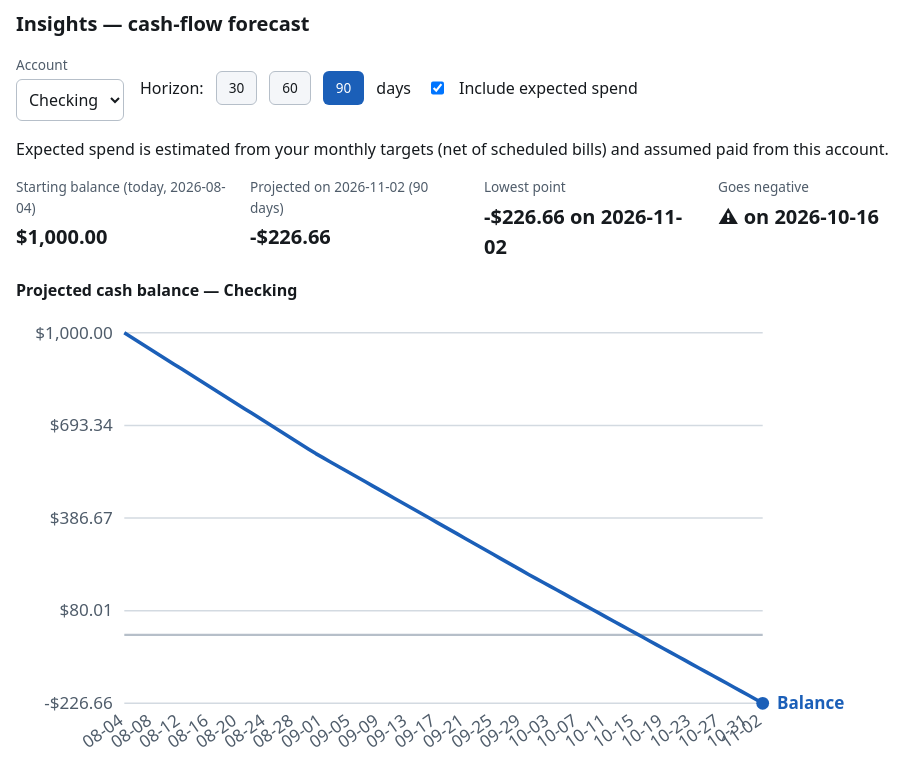
ForecastView (FEAT-013) › the expected-spend toggle folds targets in (default on) and off shows the flat scheduled-only floor
This screenshot has width=905, height=764.
// Toggle OFF → scheduled-only, and with no rules that's a flat projection (no events).
Click the checkbox labelled "Include expected spend": (438, 88) [431, 72, 444, 104]
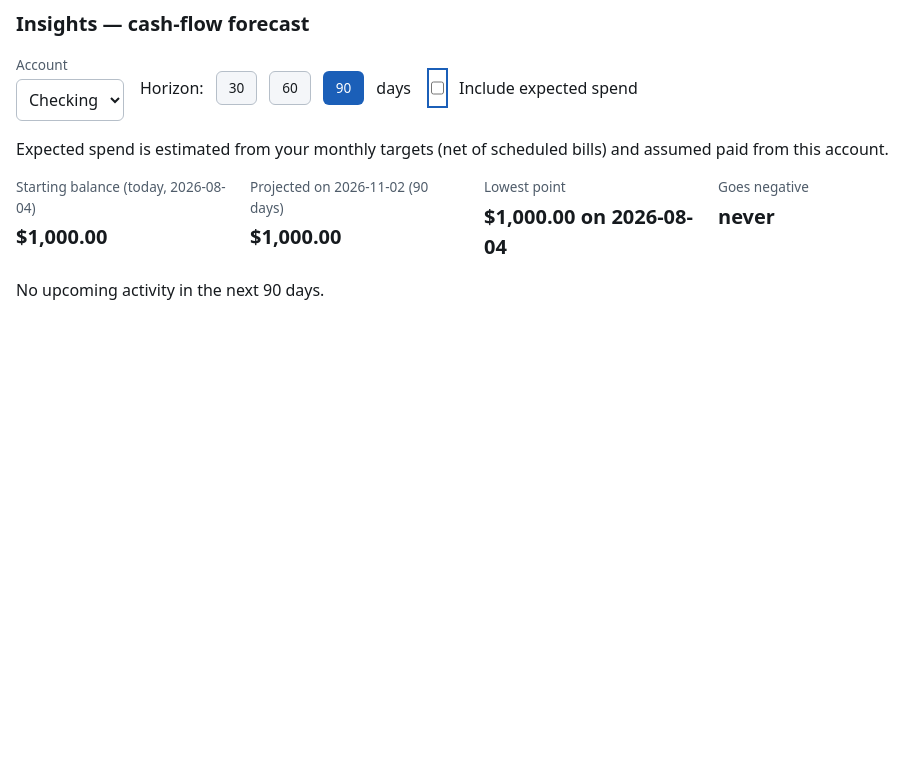
Expected: the text "No upcoming activity in the next 90 days." is shown, [16, 279, 324, 301]
